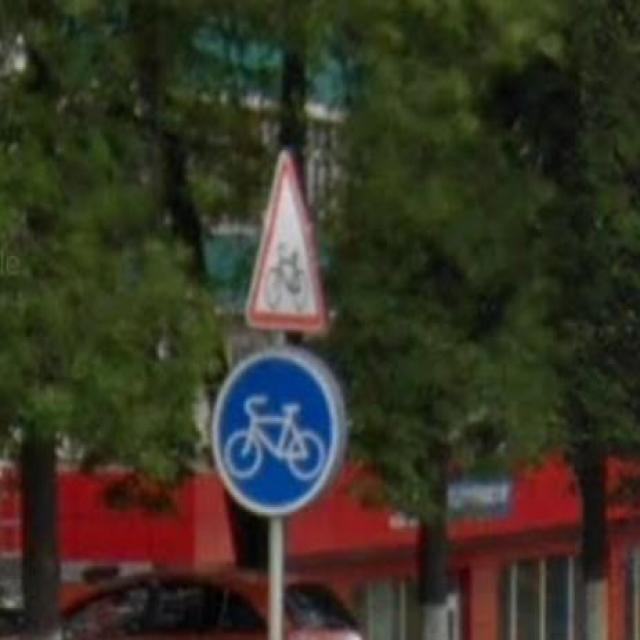traffic_sign: (209, 347, 340, 520), (244, 146, 326, 338)
